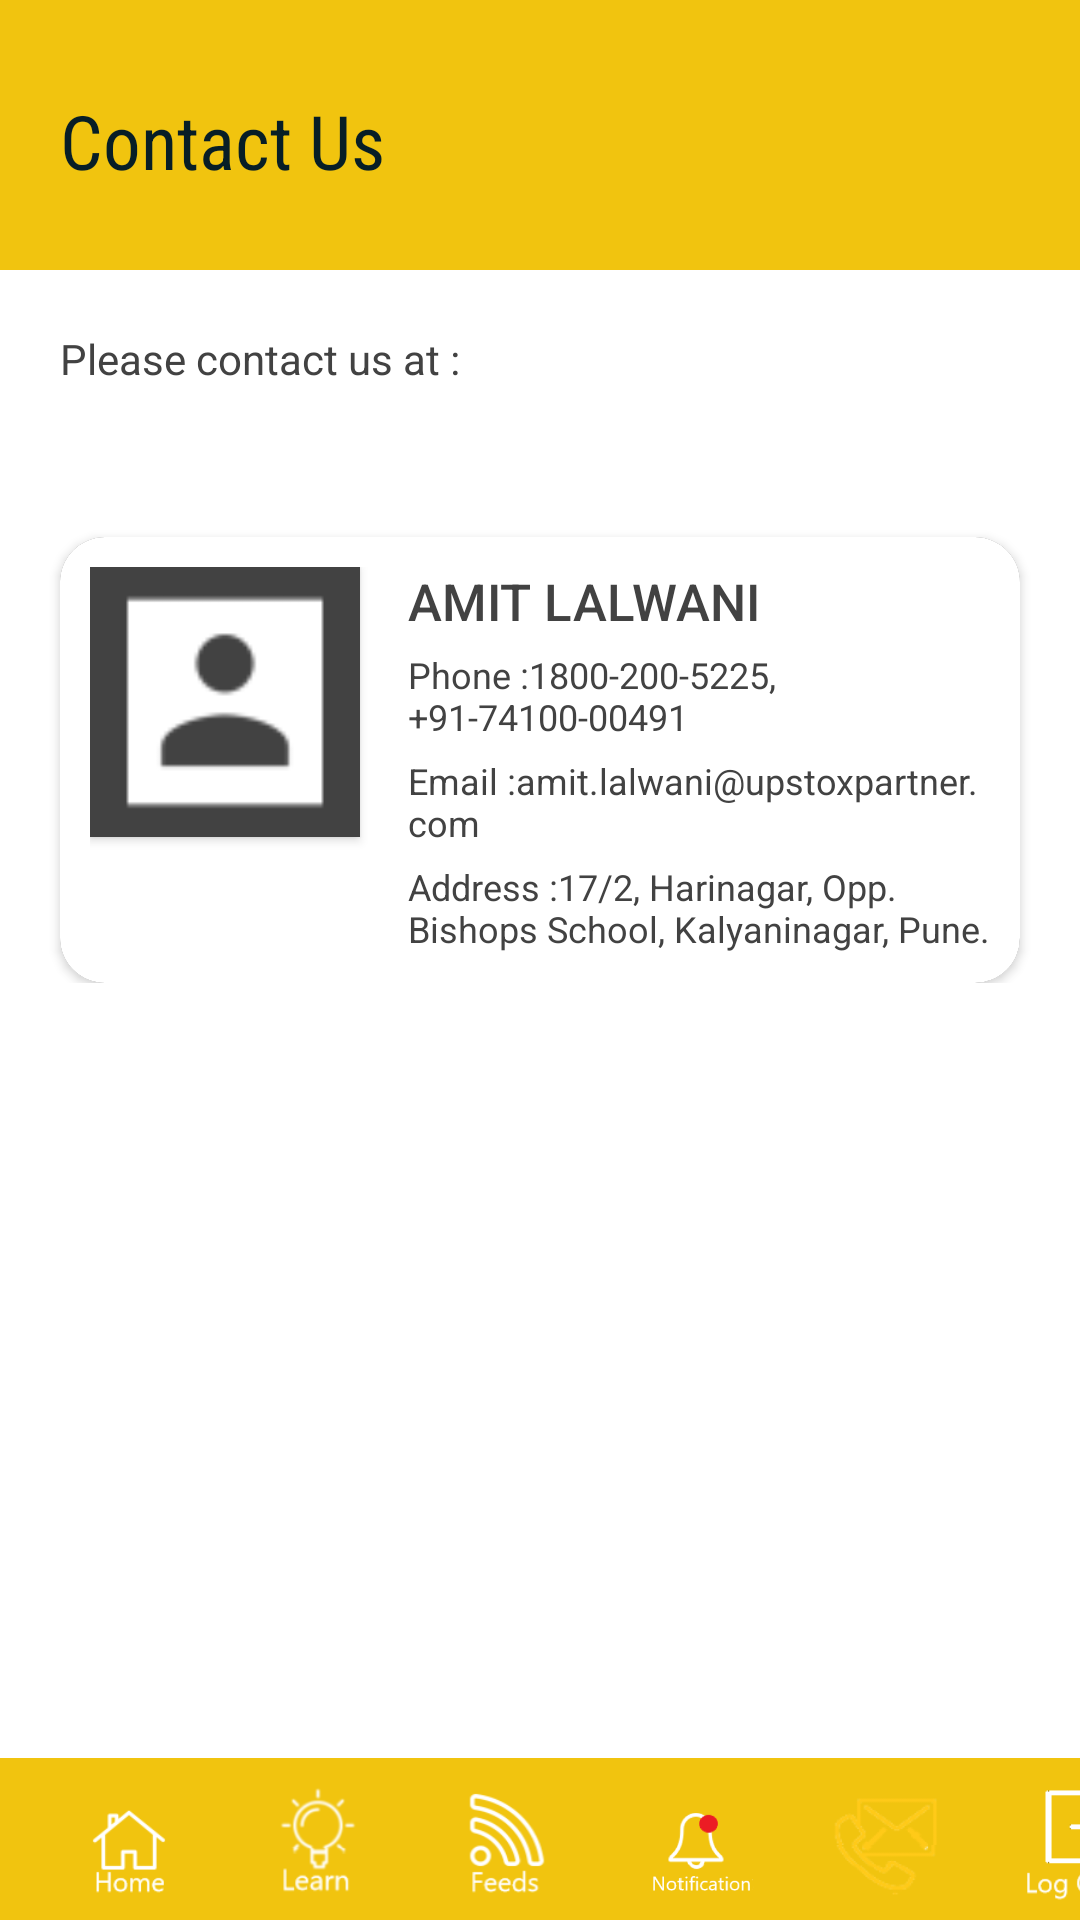

Screen size 1080px x 1920px. Icon name, then its box in pixels as (x1, y1, x2, y2):
contact: (836, 1806, 930, 1884)
